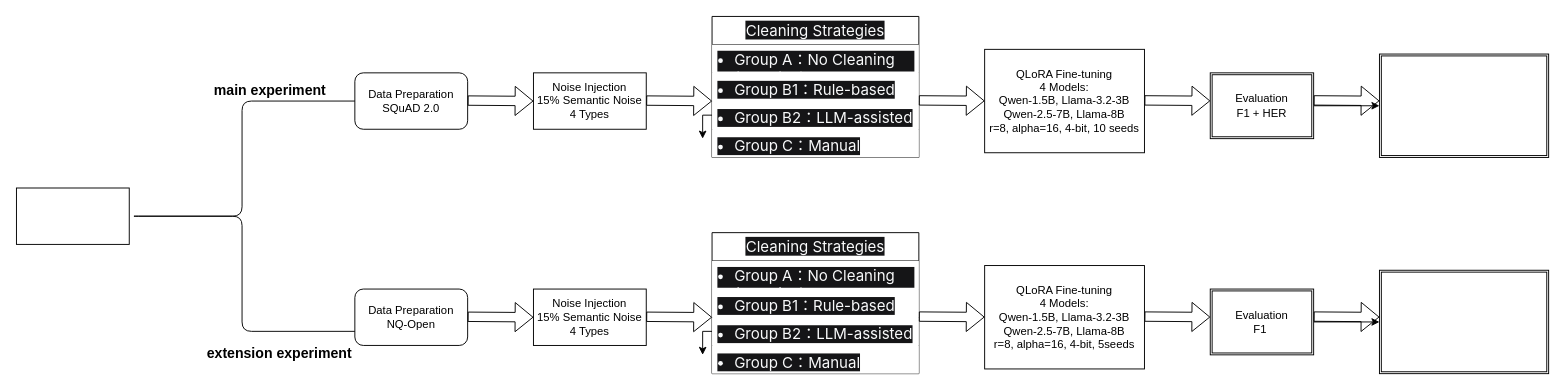
Image size: 1565x390. Some labels were removed from this diagram. The box of each missing label's shape, as (x1, y1, x2, y2) in pixels:
experimental procedure: (16, 187, 129, 244)
Output Tables(1,3) & Figures(1a,1b,2,3a,3b,4 ) Decision Rules: (1379, 53, 1549, 157)
Output Tables(2,4) & Figures(1c ): (1379, 269, 1549, 374)
